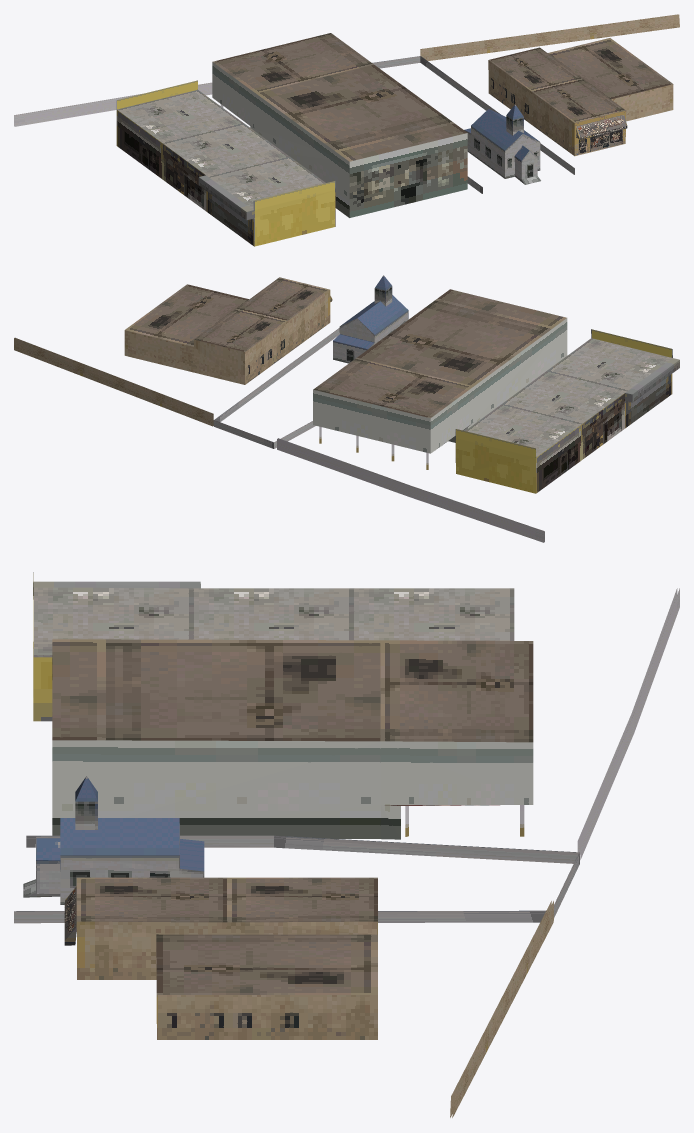
File: lodaschurchy1.obj
3 views of the same model, one above another, from view 1: azimuth 30°, elevation 25°; view 2: azimuth 150°, elevation 25°; view 3: azimuth 270°, elevation 25° (orthographic). The views are drawn at different scales.
Visible parts, largest first — view 1: lodaschurchy1; view 2: lodaschurchy1; view 3: lodaschurchy1.
Boxes of the visible parts, box(x1,y1,x2,y2) form: lodaschurchy1: box(14, 14, 679, 246); lodaschurchy1: box(14, 275, 679, 542); lodaschurchy1: box(14, 572, 679, 1117).
Size of the model in its own units: 99.96 by 10.45 by 54.9.
Materials: 10 (10 with a texture image).
